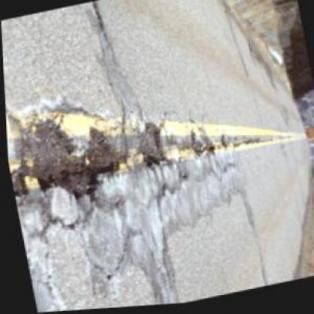Hueco: (5, 111, 125, 214), (133, 120, 167, 173)
